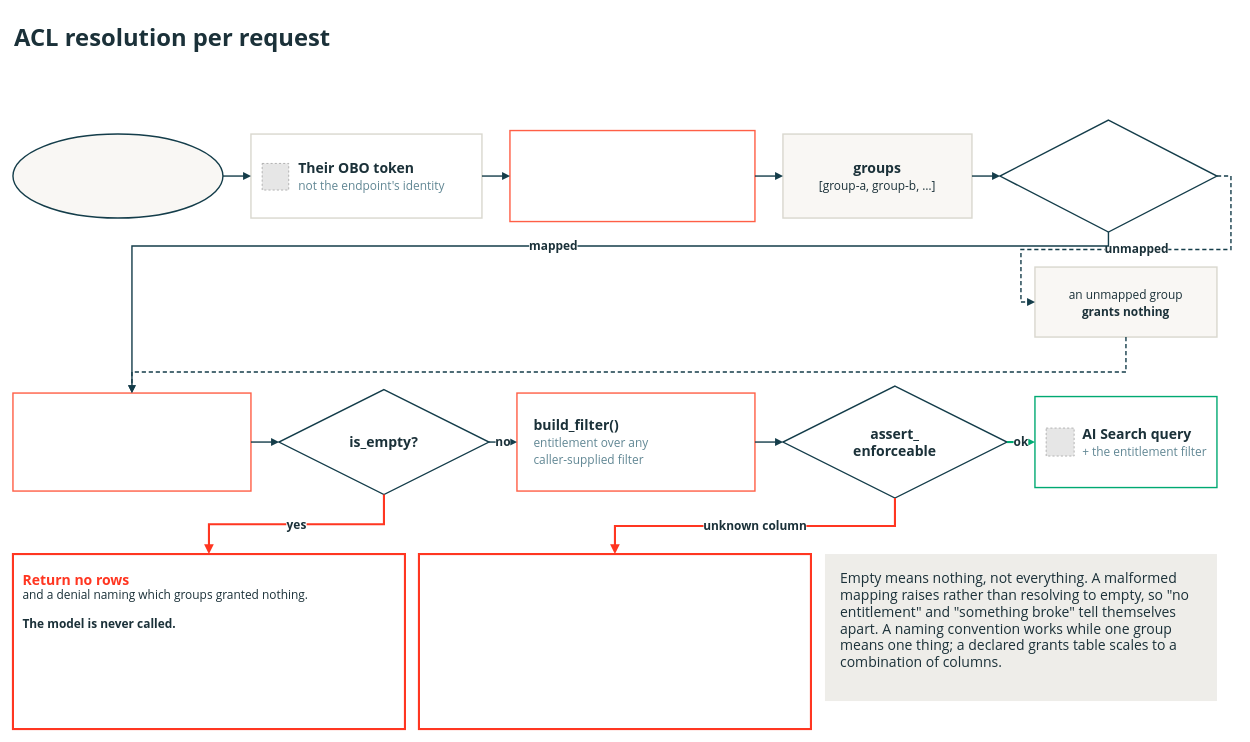
This 1250x742 diagram has some shape labels left out. Grey dashed boxes stand in for pictures. The centre of each missing label's shape, as x and y in pixels:
"Caller a human, in a front end" goes at (117,175).
"declared grants table" goes at (1108,175).
"Entitlements source_systems · site_ids sensitivity_labels" goes at (131,441).
"PermissionError the index cannot apply this column, so the request stops." goes at (615,641).
"SCIM /Me group memberships, resolved with the caller's own credentials" goes at (632,176).
